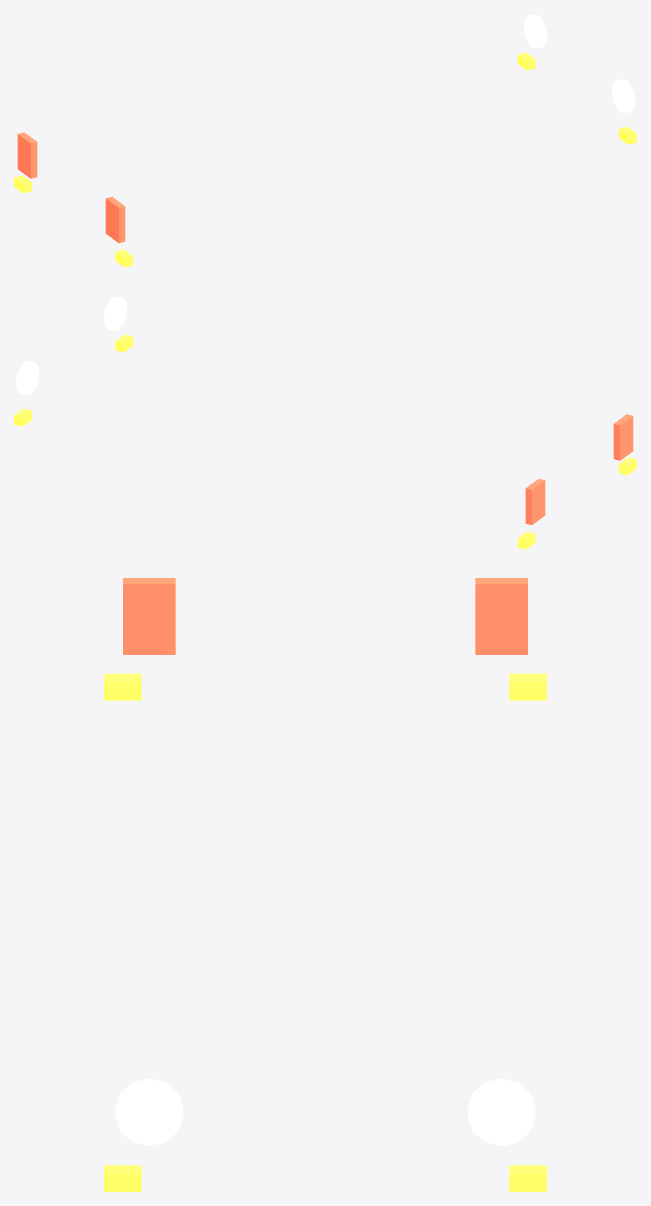
The model's file is gelik_lights.glb.
The picture shows the model from 3 angles, top to bottom: view 1: azimuth 30°, elevation 25°; view 2: azimuth 150°, elevation 25°; view 3: azimuth 270°, elevation 25°; orthographic projection. The views are drawn at different scales.
Parts seen in each view (by area): view 1: GelikLights; view 2: GelikLights; view 3: GelikLights.
Boxes of the visible parts, x1,y1,x2,y2 form: GelikLights: (14,14,636,267); GelikLights: (14,296,636,549); GelikLights: (104,578,546,1191).
Bounding box in the file's own units: 4.72 × 0.495 × 1.76.
